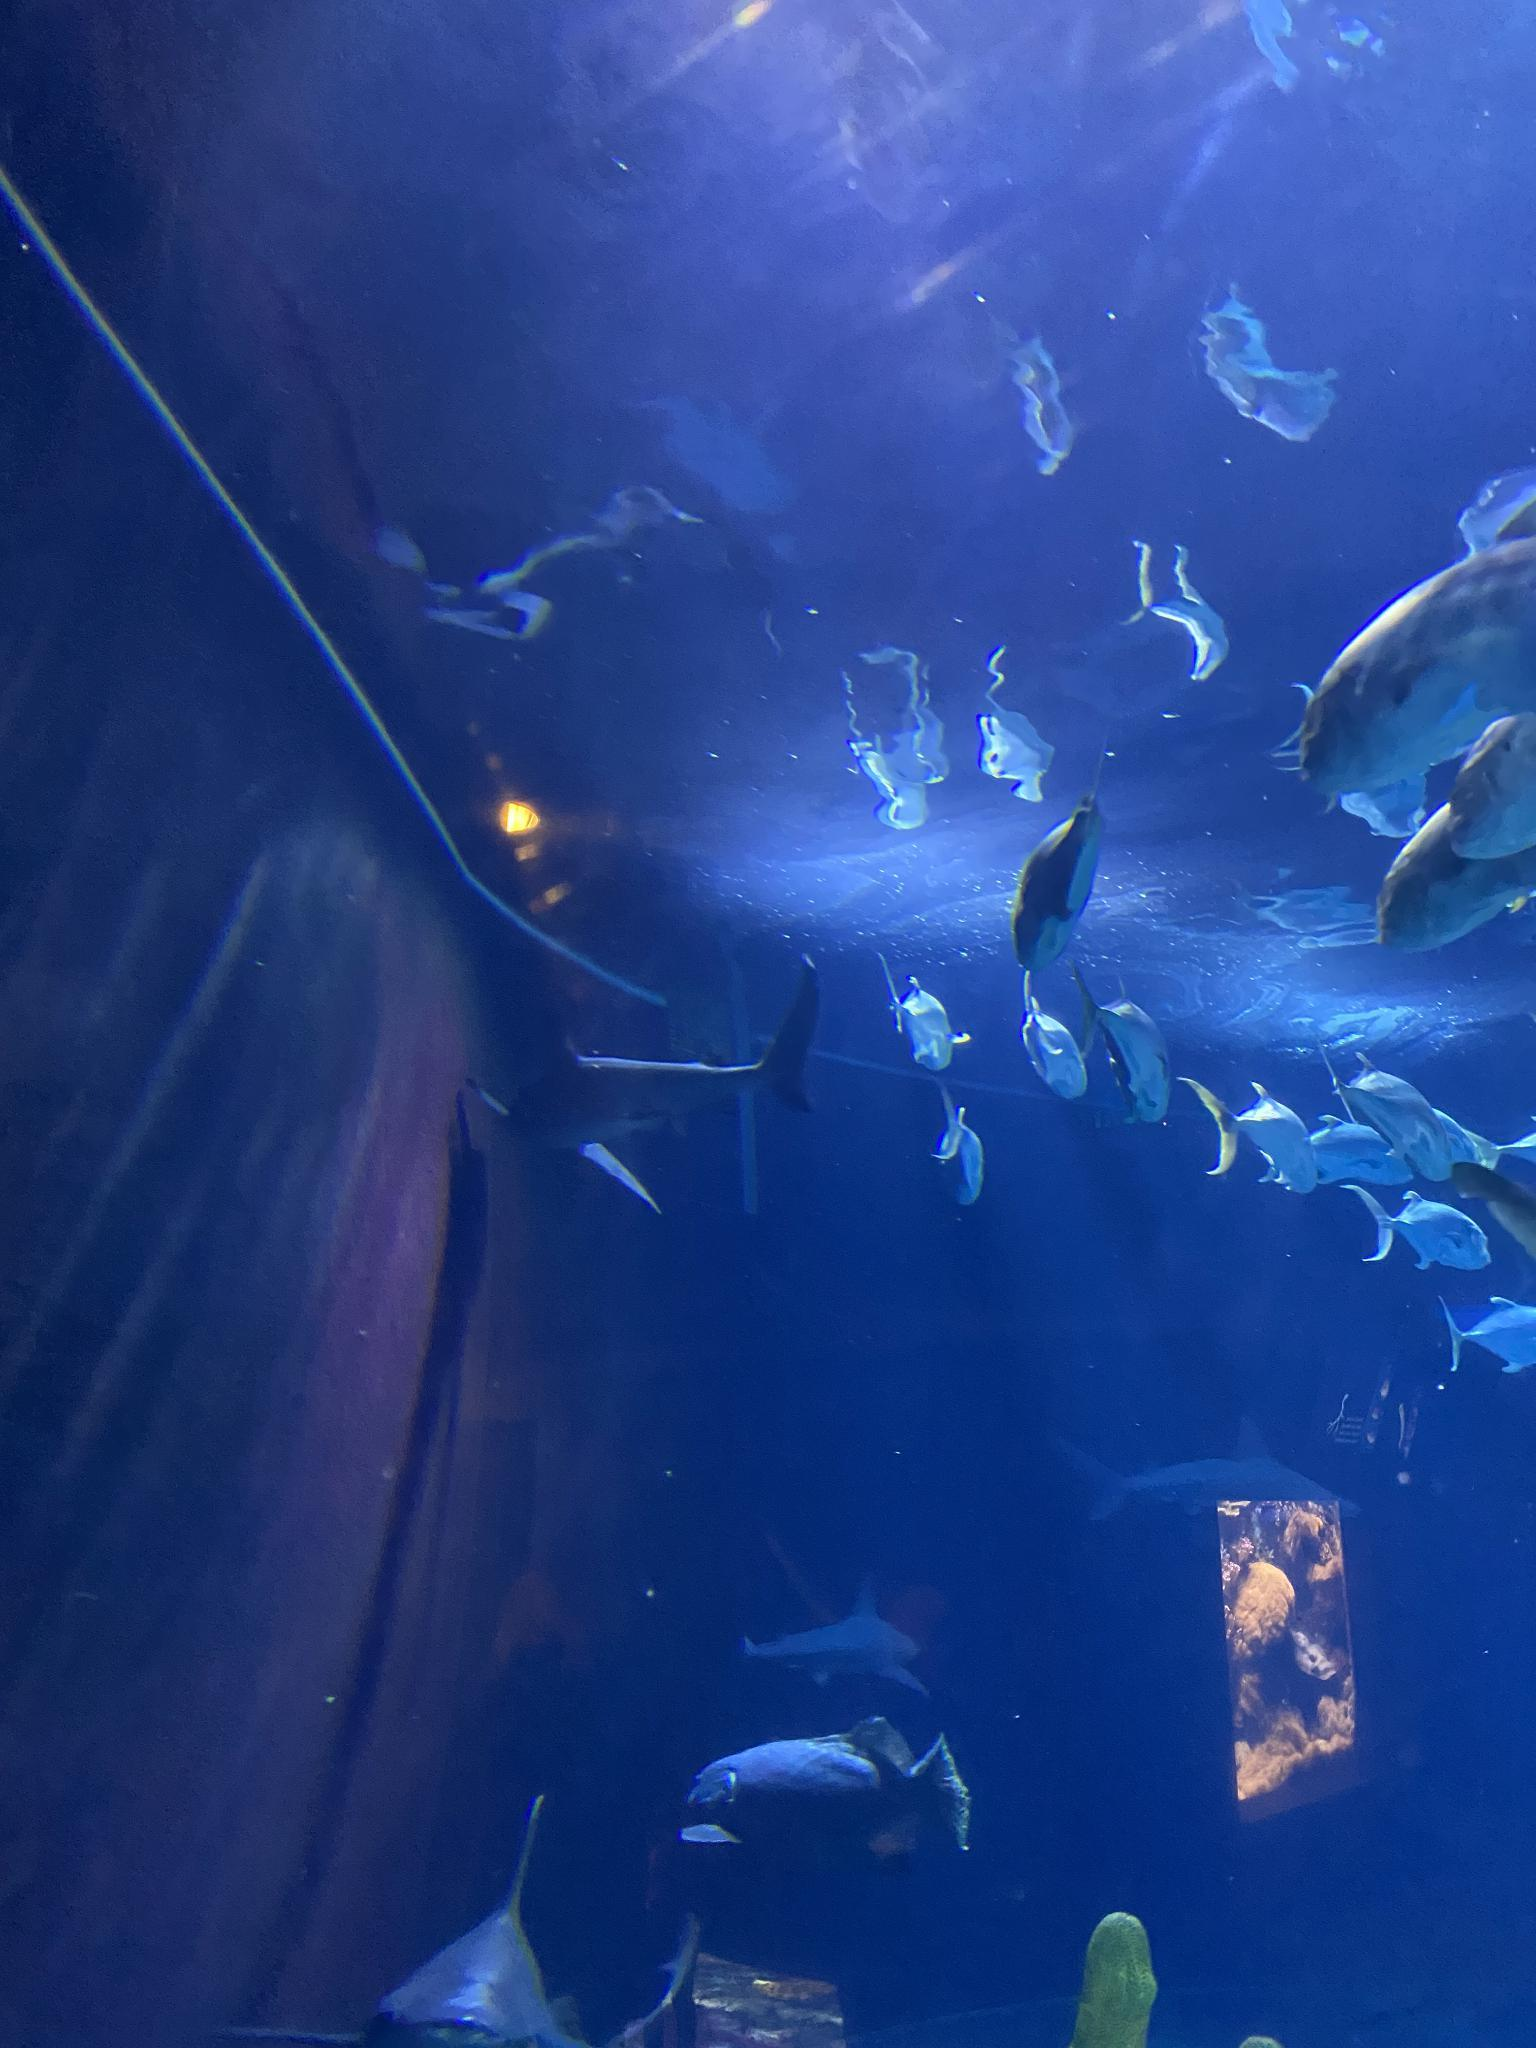fish: (1299, 539, 1534, 797), (679, 1714, 971, 1872), (1375, 798, 1536, 951), (1317, 1043, 1454, 1179), (1073, 955, 1171, 1126), (1178, 1076, 1317, 1197), (1338, 1185, 1491, 1269), (1449, 713, 1534, 860), (1262, 1114, 1413, 1192), (878, 955, 970, 1076), (1025, 968, 1087, 1100), (1438, 1297, 1534, 1376), (929, 1076, 984, 1205)
shark: (434, 942, 833, 1222), (213, 1795, 599, 2046), (1046, 1416, 1360, 1522), (744, 1576, 929, 1700)
stingray: (1013, 793, 1105, 971)
